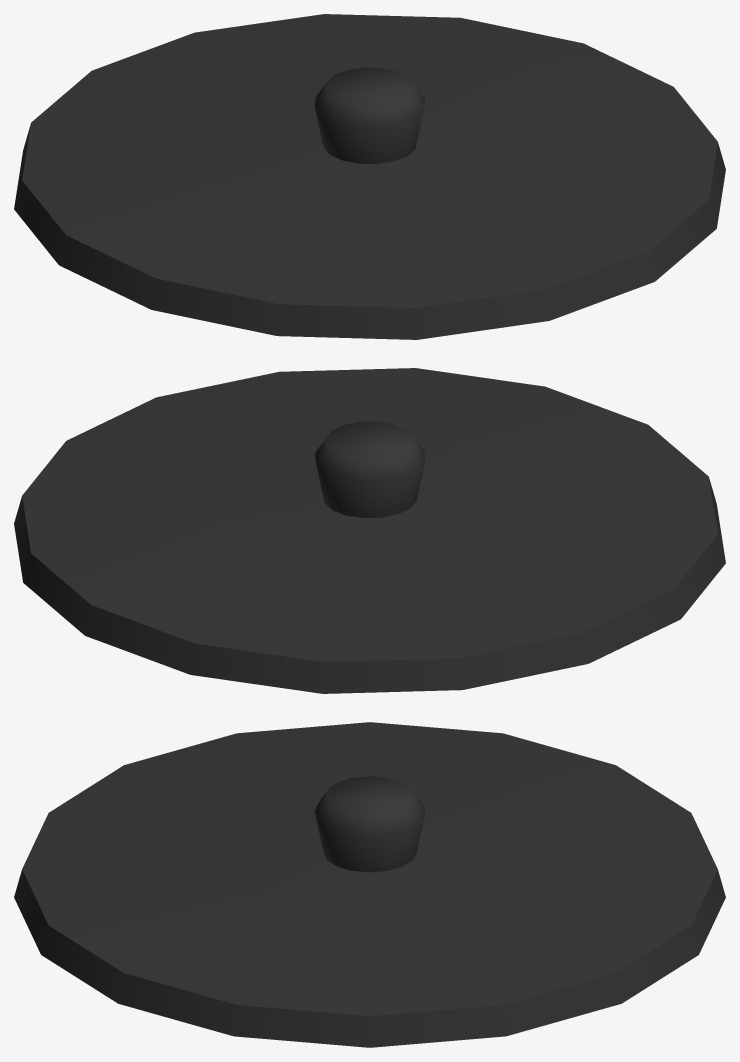
The model's file is CauldronLid.fbx.
3 renders of one model, top to bottom at view 1: azimuth 30°, elevation 25°; view 2: azimuth 150°, elevation 25°; view 3: azimuth 270°, elevation 25°, orthographic.
Parts seen in each view (by area): view 1: CauldronLid; view 2: CauldronLid; view 3: CauldronLid.
Part boxes in pixels (x1=…): CauldronLid: x1=14, y1=14, x2=725, y2=339; CauldronLid: x1=14, y1=368, x2=725, y2=693; CauldronLid: x1=14, y1=722, x2=725, y2=1047.
Bounding box in the file's own units: 51.73 × 8.25 × 51.73.
